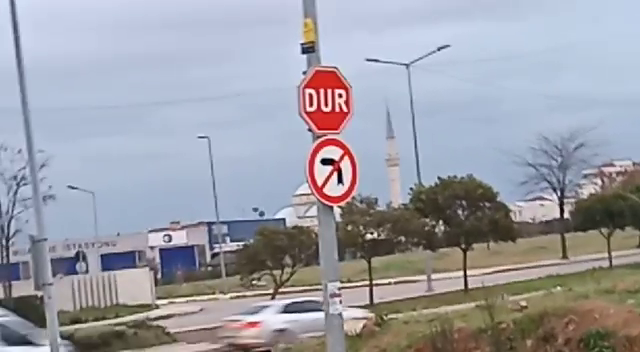no_left: (302, 135, 362, 211)
stop: (295, 63, 357, 140)
